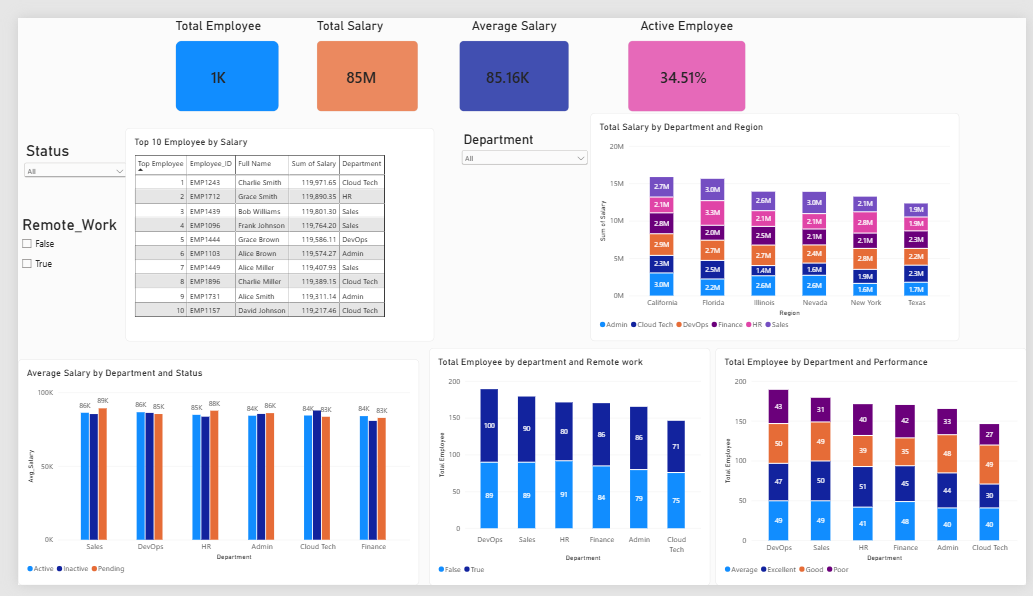

What the dashboard file says about the page in this screenshot:
{"tool":"powerbi","page":{"name":"Page 1","canvas":[1920,1080],"ordinal":0},"visuals":[{"type":"cardVisual","title":"Total Employee","fields":{"Data":["Messy_Employee_dataset.Total Employee"]},"box":[300.5,0,197.6,179.1],"z":0},{"type":"slicer","fields":{"Values":["Messy_Employee_dataset.Department"]},"box":[840,217.5,250,140],"z":1000},{"type":"cardVisual","title":"Total Salary","fields":{"Data":["Messy_Employee_dataset.Total Salary"]},"box":[570.2,0,193.5,179.1],"z":2000},{"type":"cardVisual","title":"Average Salary","fields":{"Data":["Messy_Employee_dataset.Avg_Salary"]},"box":[839.8,0,209.9,179.1],"z":3000},{"type":"slicer","fields":{"Values":["Messy_Employee_dataset.Remote_Work"]},"box":[0,376.7,205,125],"z":4000},{"type":"slicer","fields":{"Values":["Messy_Employee_dataset.Status"]},"box":[6.2,234.6,205,105],"z":5000},{"type":"columnChart","title":"Total Salary by Department and Region","fields":{"Y":["Sum(Messy_Employee_dataset.Salary)"],"Category":["Messy_Employee_dataset.Region "],"Series":["Messy_Employee_dataset.Department"]},"box":[1090,180,702,434],"z":6000},{"type":"tableEx","title":"Top 10 Employee by Salary ","fields":{"Values":["Messy_Employee_dataset.Top Employee","Messy_Employee_dataset.Employee_ID","Messy_Employee_dataset.Full Name","Sum(Messy_Employee_dataset.Salary)","Messy_Employee_dataset.Department"]},"box":[205,210,588,406],"z":7000},{"type":"clusteredColumnChart","title":"Average Salary by Department and Status","fields":{"Y":["Messy_Employee_dataset.Avg_Salary"],"Category":["Messy_Employee_dataset.Department"],"Series":["Messy_Employee_dataset.Status"]},"box":[0,650,764,430],"z":8000},{"type":"cardVisual","title":"Active Employee ","fields":{"Data":["Messy_Employee_dataset.Active Employee percentage"]},"box":[1163,0,224.4,179.1],"z":9000},{"type":"columnChart","title":"Total Employee by Department and Performance ","fields":{"Category":["Messy_Employee_dataset.Department"],"Series":["Messy_Employee_dataset.Performance_Score"],"Y":["Messy_Employee_dataset.Total Employee"]},"box":[1327.5,627.5,592.5,452.5],"z":10000},{"type":"columnChart","title":"Total Employee by department and Remote work","fields":{"Category":["Messy_Employee_dataset.Department"],"Series":["Messy_Employee_dataset.Remote_Work"],"Y":["Messy_Employee_dataset.Total Employee"]},"box":[782.5,627.5,535,452.5],"z":11000}]}

Visuals, with their boxes in screenshot pixels (x1, y1, x2, y2), scaled from the page's 1920x1080 canvas onto the 1033x596 screenshot:
"Total Employee" cardVisual: <region>162, 0, 268, 99</region>
slicer - Messy_Employee_dataset.Department: <region>452, 120, 586, 197</region>
"Total Salary" cardVisual: <region>307, 0, 411, 99</region>
"Average Salary" cardVisual: <region>452, 0, 565, 99</region>
slicer - Messy_Employee_dataset.Remote_Work: <region>0, 208, 110, 277</region>
slicer - Messy_Employee_dataset.Status: <region>3, 129, 114, 187</region>
"Total Salary by Department and Region" columnChart: <region>586, 99, 964, 339</region>
"Top 10 Employee by Salary " tableEx: <region>110, 116, 427, 340</region>
"Average Salary by Department and Status" clusteredColumnChart: <region>0, 359, 411, 595</region>
"Active Employee " cardVisual: <region>626, 0, 746, 99</region>
"Total Employee by Department and Performance " columnChart: <region>714, 346, 1032, 595</region>
"Total Employee by department and Remote work" columnChart: <region>421, 346, 709, 595</region>
